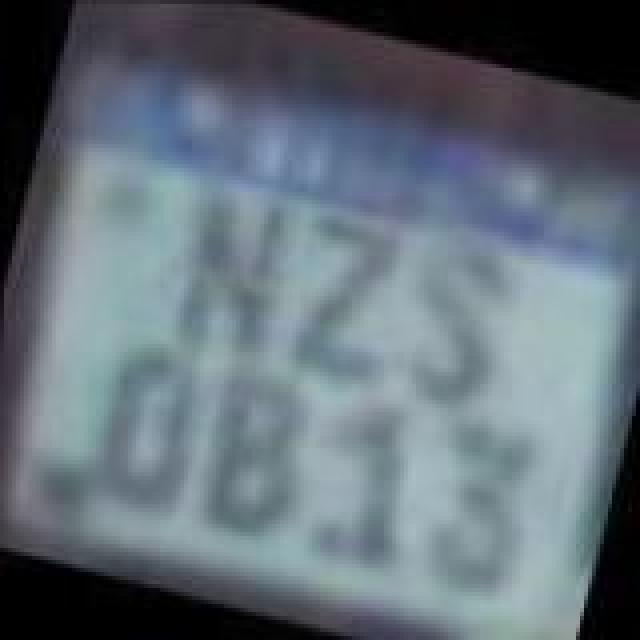1: (284, 386, 440, 574)
3: (396, 408, 552, 600)
B: (180, 354, 324, 542)
D: (72, 326, 208, 510)
N: (156, 178, 296, 362)
S: (378, 224, 518, 412)
Z: (270, 200, 418, 396)
